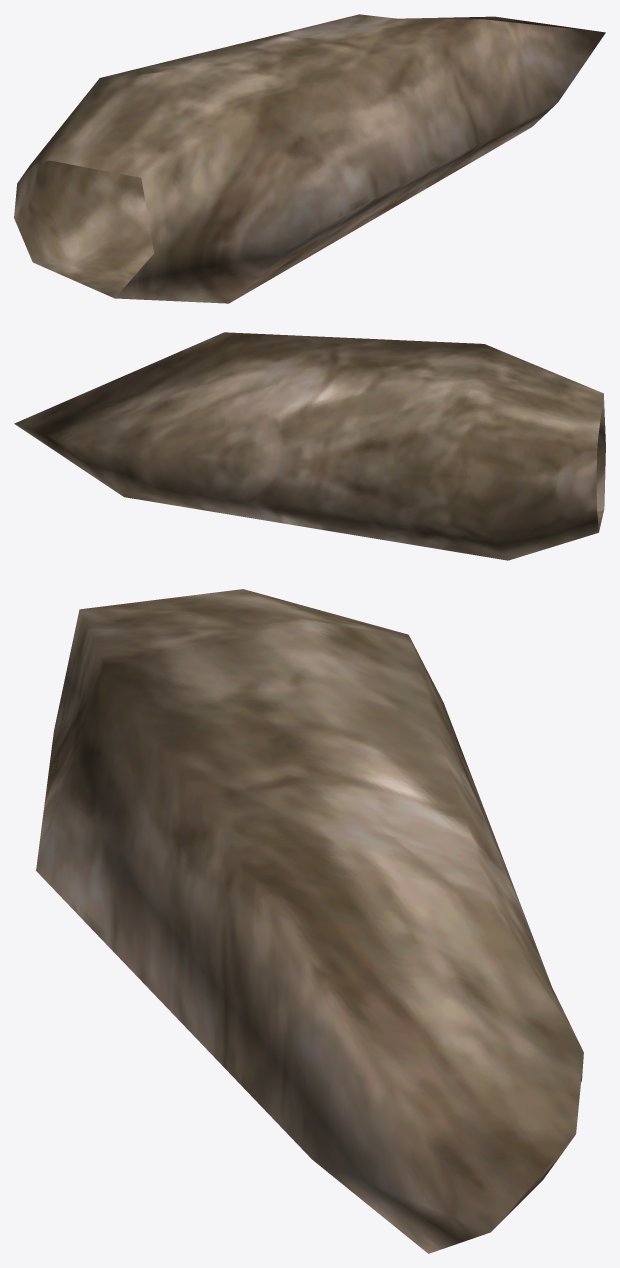
The model's file is OVERHILL_A_01_ROCK69.fbx.
The picture shows the model from 3 angles, top to bottom: view 1: azimuth 30°, elevation 25°; view 2: azimuth 150°, elevation 25°; view 3: azimuth 270°, elevation 25°; orthographic projection. The views are drawn at different scales.
Visible parts, largest first — view 1: OVERHILL_A_01_ROCK69; view 2: OVERHILL_A_01_ROCK69; view 3: OVERHILL_A_01_ROCK69.
Part boxes in pixels (x1,y1,x2,y2): OVERHILL_A_01_ROCK69: [14, 14, 605, 303]; OVERHILL_A_01_ROCK69: [14, 332, 605, 560]; OVERHILL_A_01_ROCK69: [36, 589, 583, 1253].
Size of the model in its own units: 28507 by 8673 by 12611.
Materials: 1 (1 with a texture image).
